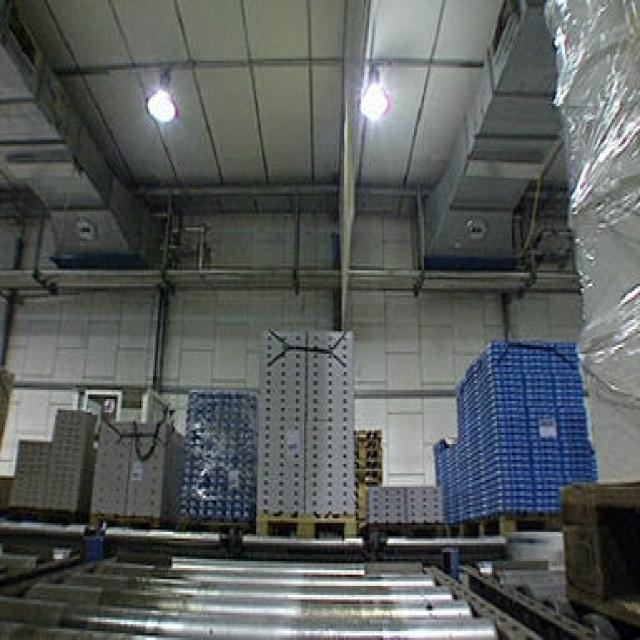box: (438, 338, 601, 522), (261, 328, 355, 518), (92, 388, 179, 534), (180, 389, 261, 533), (11, 397, 90, 522), (360, 488, 441, 522)
